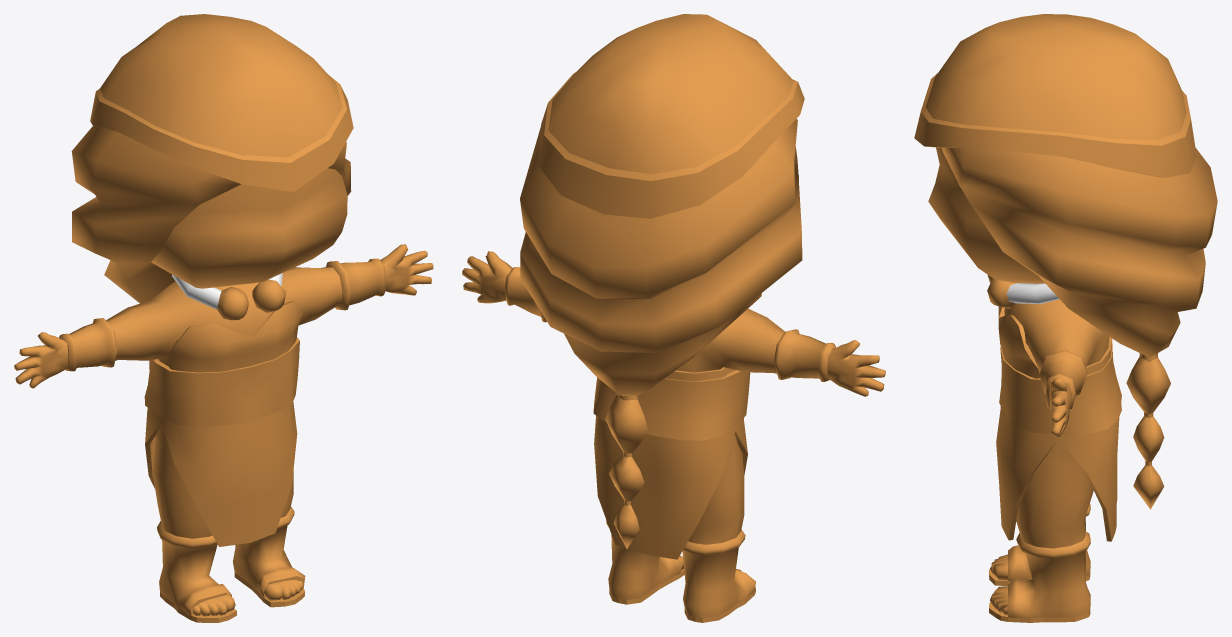
Rendered from Idun_Attach.FBX.
3 renders of one model, left to right at view 1: azimuth 30°, elevation 25°; view 2: azimuth 150°, elevation 25°; view 3: azimuth 270°, elevation 25°, orthographic.
Parts seen in each view (by area): view 1: Body; view 2: Body; view 3: Body.
Boxes of the visible parts, x1,y1,x2,y2 form: Body: [14, 14, 433, 622]; Body: [462, 14, 885, 622]; Body: [914, 14, 1217, 622].
Size of the model in its own units: 82.26 by 105 by 50.83.
